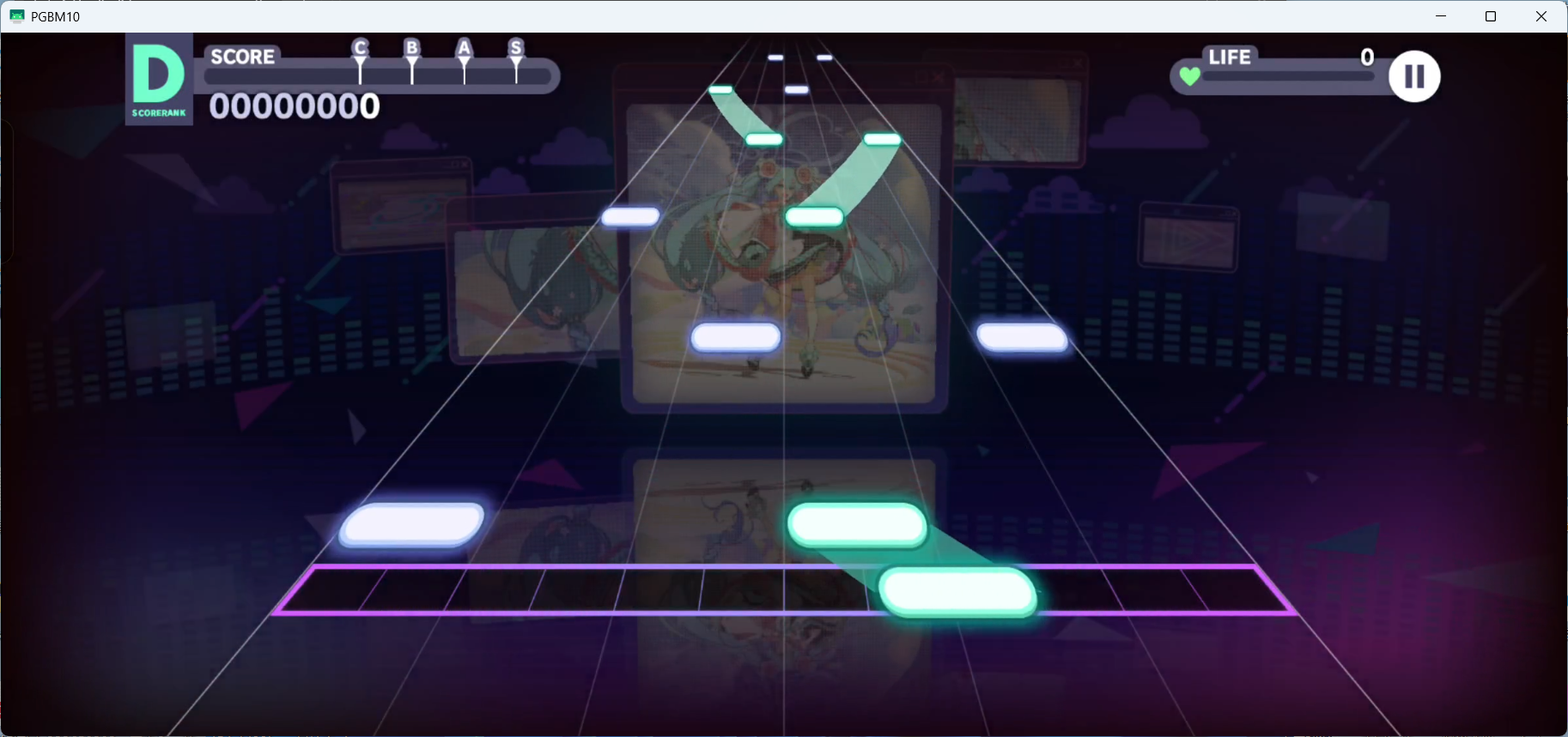hold: (796, 148, 899, 206), (711, 94, 777, 133), (813, 551, 994, 565)
tap: (877, 564, 1037, 619), (339, 502, 484, 550), (787, 502, 927, 551), (690, 322, 781, 353), (975, 323, 1067, 353), (786, 206, 843, 227), (601, 208, 659, 227), (864, 134, 902, 146), (746, 133, 783, 145), (784, 85, 809, 94), (708, 85, 732, 94), (767, 54, 783, 60), (817, 54, 833, 60)
